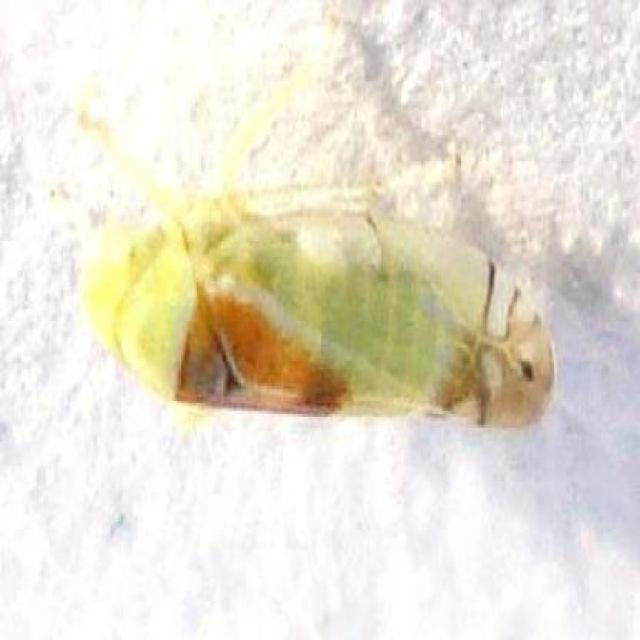green-leafhopper: (93, 160, 553, 414)
